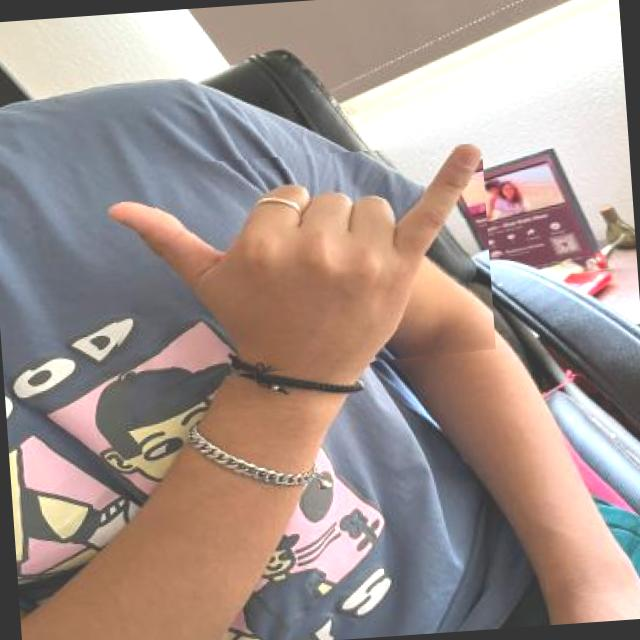Y: (100, 142, 496, 386)
